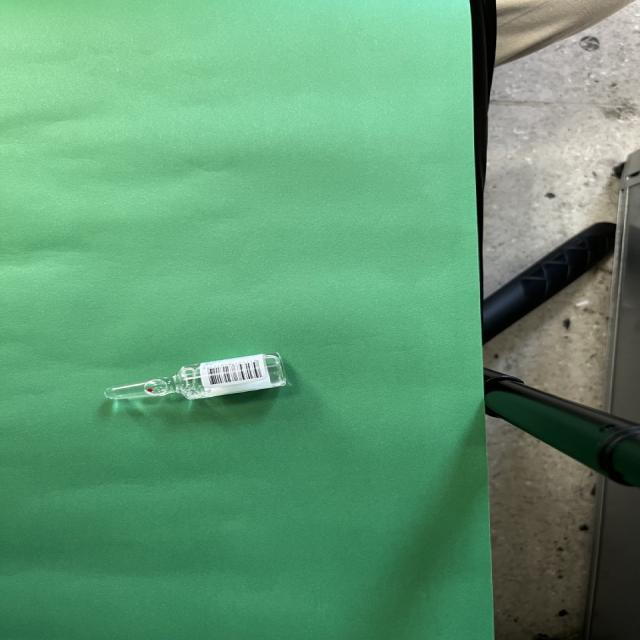Ampoules: (105, 354, 286, 400)
